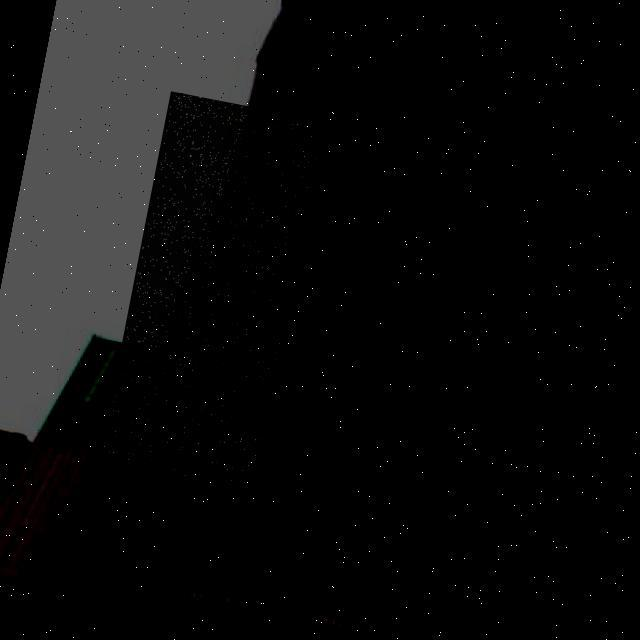Dent: (104, 121, 319, 479)
